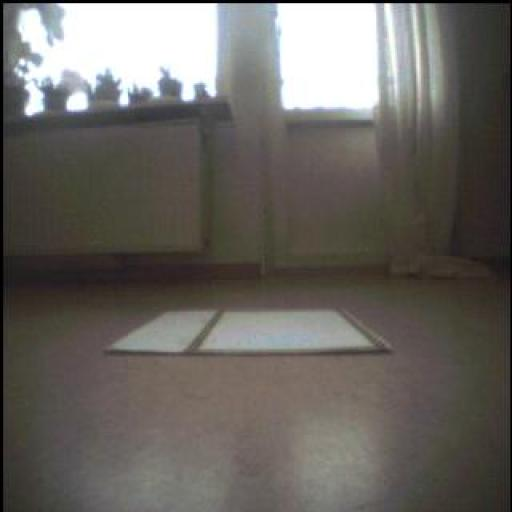Pad: (104, 306, 386, 354)
